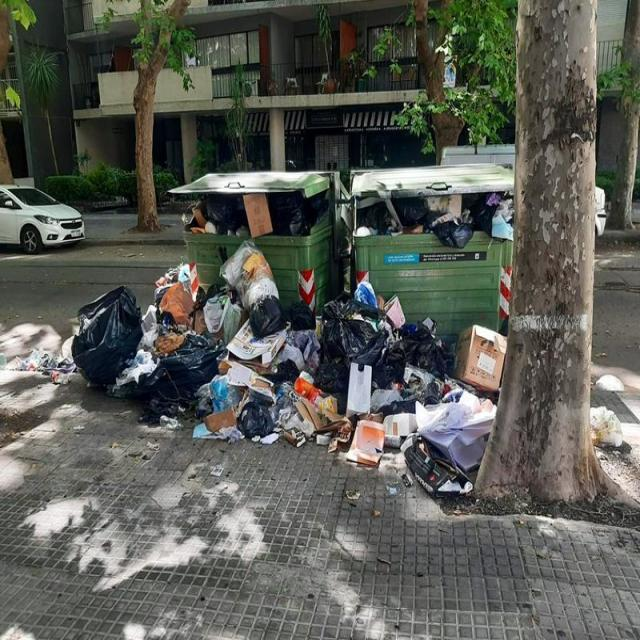high trash: (70, 240, 506, 497)
